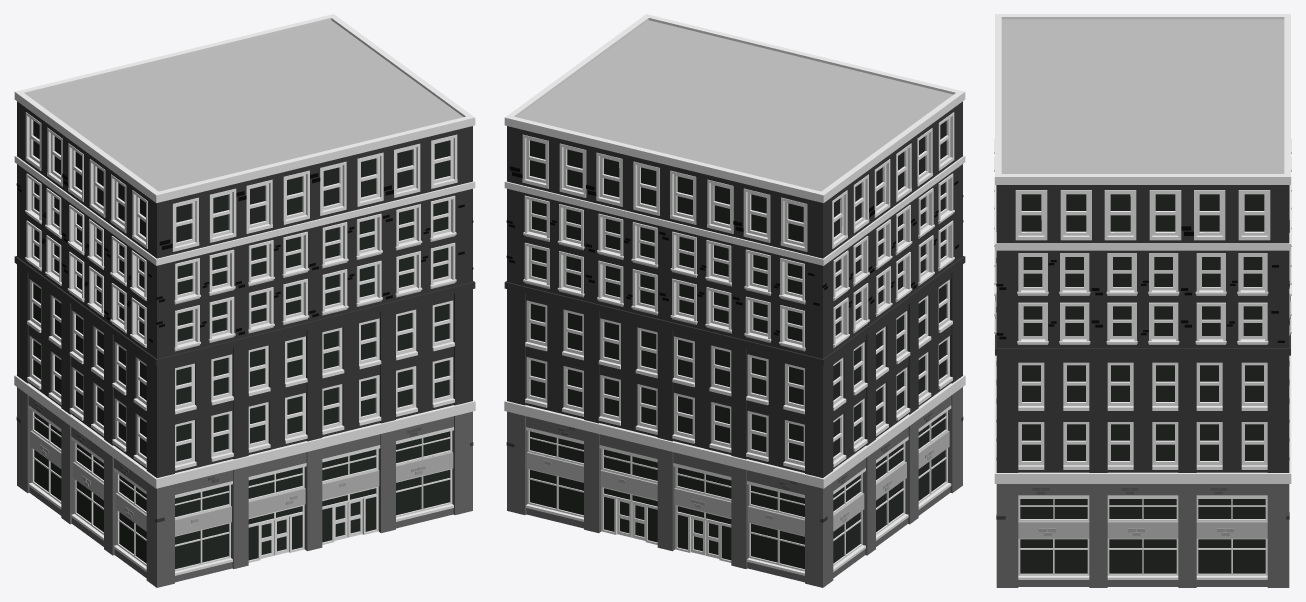
File: NeoClassical-02.fbx
The picture shows the model from 3 angles, left to right: view 1: azimuth 30°, elevation 25°; view 2: azimuth 150°, elevation 25°; view 3: azimuth 270°, elevation 25°; orthographic projection. The views are drawn at different scales.
Visible parts, largest first — view 1: Building; view 2: Building; view 3: Building.
Part boxes in pixels (x1=…): Building: x1=14, y1=14, x2=475, y2=587; Building: x1=504, y1=14, x2=965, y2=587; Building: x1=994, y1=14, x2=1291, y2=587.
Size of what is drawn, in the model's own units: 21.37 by 25.1 by 16.45.
